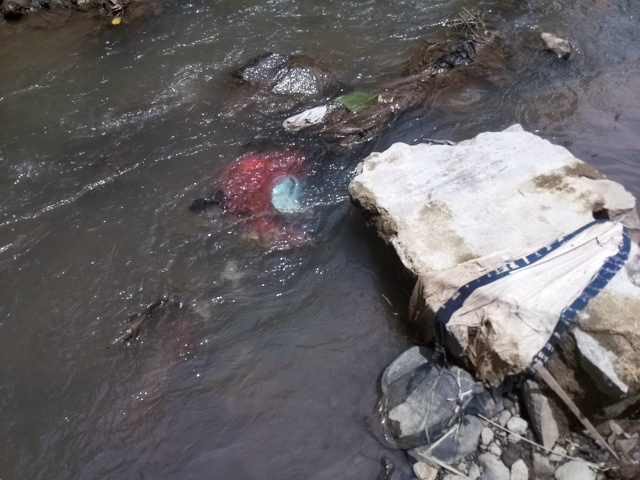Sampah_Plastik: (225, 147, 310, 235)
